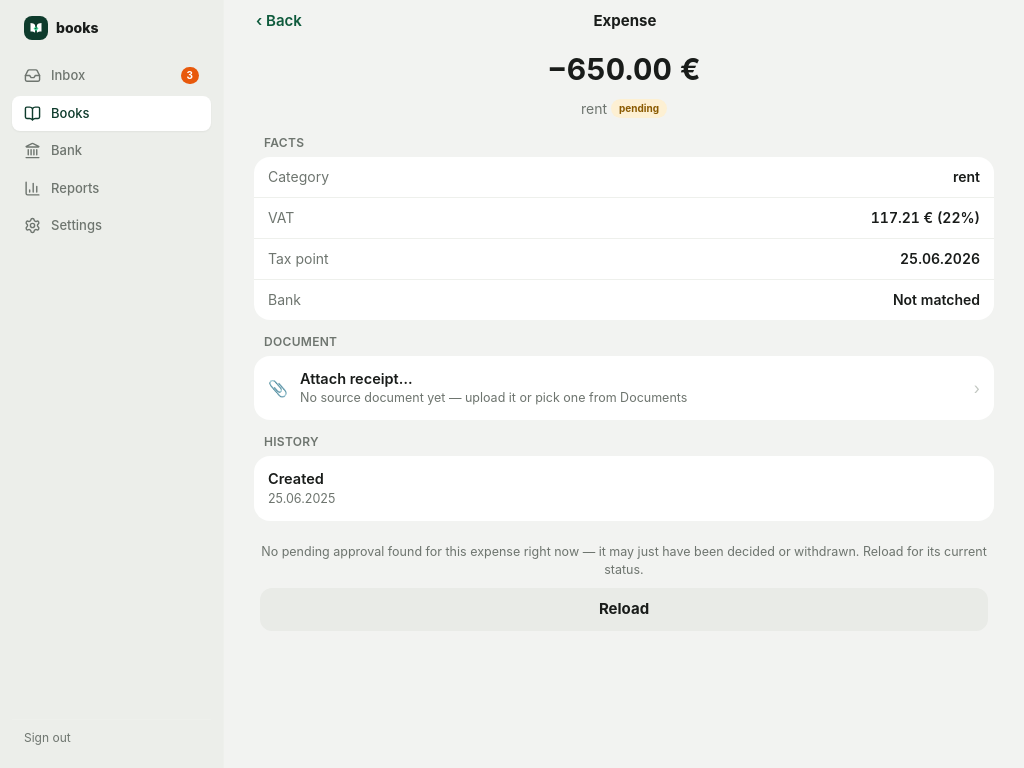
Test case: pending Books record → its own approval (#262) › fresh no-match: stated without claiming an outcome, and reloadable
The image size is (1024, 768).
Expected: the text "No pending approval found for this expense" is shown, [260,542,988,580]
Expected: the link "Open approval" is not shown
Click the button "Reload": (624, 609) [260,588,988,630]
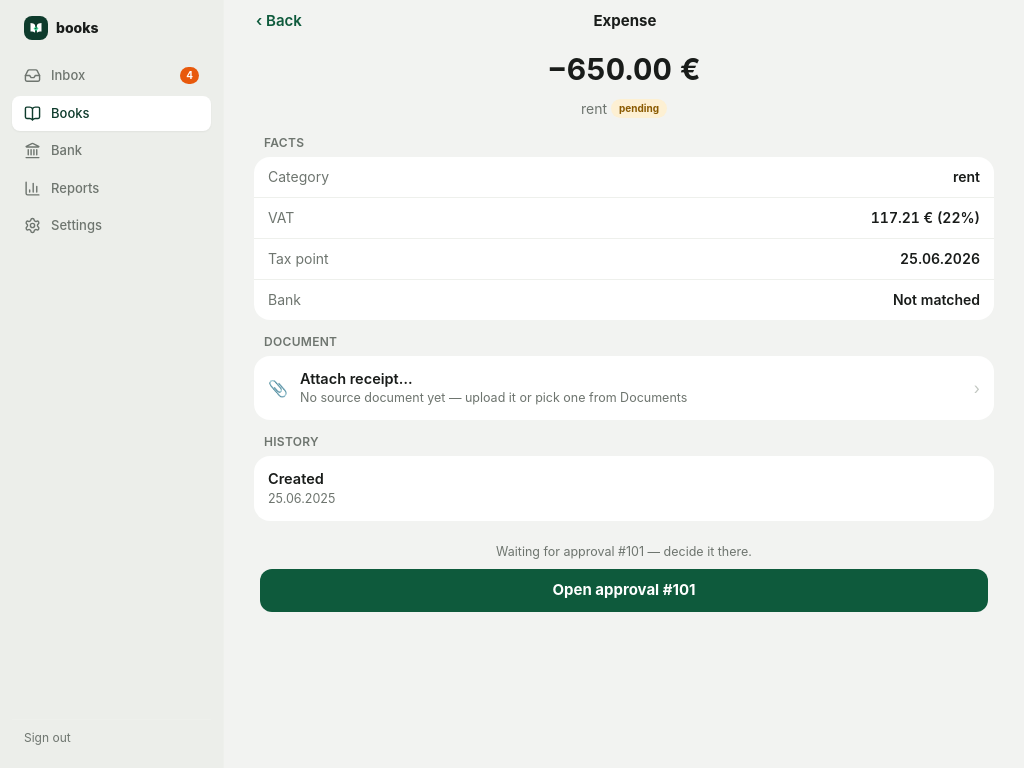
Expected: the link "Open approval #101" is shown, [260,569,988,612]
